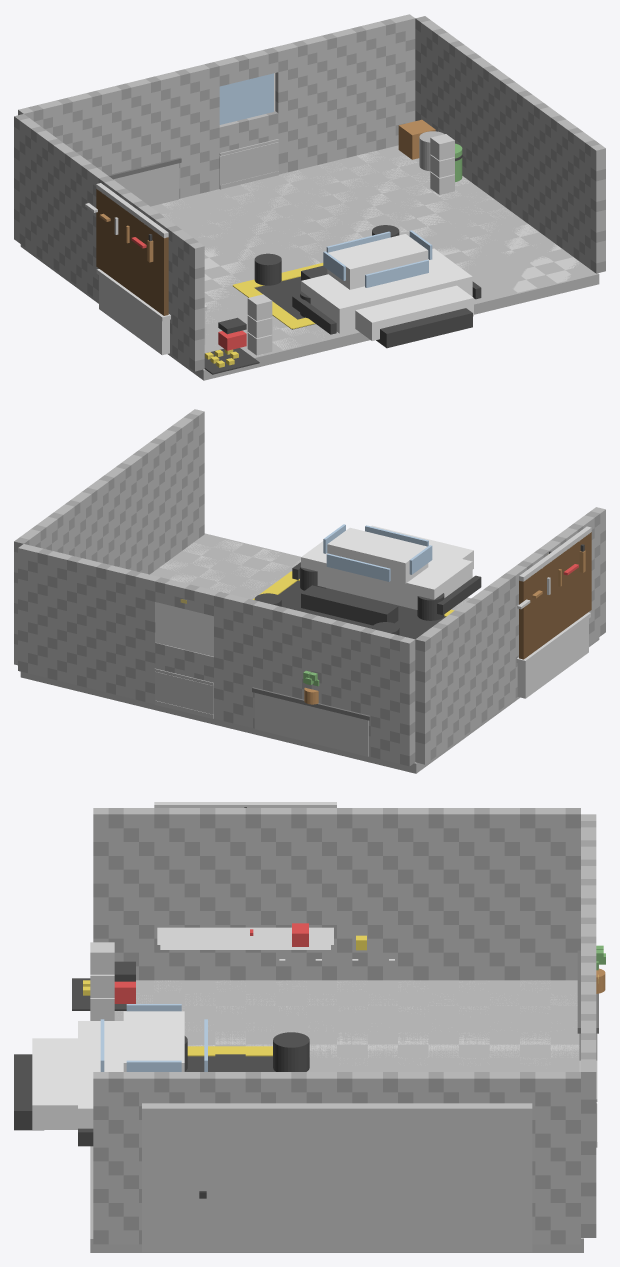
The model's file is garage.glb.
3 renders of one model, top to bottom at view 1: azimuth 30°, elevation 25°; view 2: azimuth 150°, elevation 25°; view 3: azimuth 270°, elevation 25°, orthographic. The views are drawn at different scales.
Parts seen in each view (by area): view 1: wall_back, floor_slab, wall_right, wall_left, car_body, floor_tiles, pegboard, workbench, window, shelf, cabinets, service_mat (+6 smaller); view 2: wall_back, wall_right, wall_left, car_body, floor_slab, pegboard, cabinets, floor_tiles, workbench, window, shelf, service_mat; view 3: wall_left, garage_door, floor_slab, wall_right, car_body, wall_back, floor_tiles, workbench, pegboard, service_mat, mat_stripe, block_stack_2 (+2 smaller).
Part boxes in pixels (bbox=[...]): wall_back: bbox=[18, 14, 415, 198]; floor_slab: bbox=[20, 145, 599, 380]; wall_right: bbox=[415, 16, 605, 273]; wall_left: bbox=[14, 114, 204, 371]; car_body: bbox=[254, 225, 481, 348]; floor_tiles: bbox=[152, 148, 578, 356]; pegboard: bbox=[85, 183, 168, 315]; workbench: bbox=[96, 269, 207, 355]; window: bbox=[219, 73, 275, 124]; shelf: bbox=[219, 139, 278, 189]; cabinets: bbox=[108, 157, 181, 206]; service_mat: bbox=[255, 276, 314, 329]; wall_back: bbox=[18, 544, 415, 766]; wall_right: bbox=[14, 409, 204, 665]; wall_left: bbox=[415, 507, 605, 764]; car_body: bbox=[254, 524, 481, 635]; floor_slab: bbox=[20, 533, 599, 773]; pegboard: bbox=[517, 526, 591, 659]; cabinets: bbox=[252, 687, 370, 756]; floor_tiles: bbox=[150, 535, 465, 608]; workbench: bbox=[516, 612, 590, 698]; window: bbox=[155, 602, 213, 656]; shelf: bbox=[154, 668, 213, 718]; service_mat: bbox=[278, 580, 445, 639]; wall_left: bbox=[93, 808, 580, 980]; garage_door: bbox=[142, 1103, 532, 1252]; floor_slab: bbox=[90, 980, 583, 1252]; wall_right: bbox=[93, 1072, 580, 1244]; car_body: bbox=[14, 1004, 309, 1146]; wall_back: bbox=[581, 814, 596, 1237]; floor_tiles: bbox=[118, 980, 579, 1065]; workbench: bbox=[157, 927, 394, 960]; pegboard: bbox=[154, 802, 336, 807]; service_mat: bbox=[185, 1056, 275, 1071]; mat_stripe: bbox=[187, 1046, 272, 1056]; block_stack_2: bbox=[90, 942, 114, 974].
Bounding box in the file's own units: 11.07 × 3.26 × 9.71.
